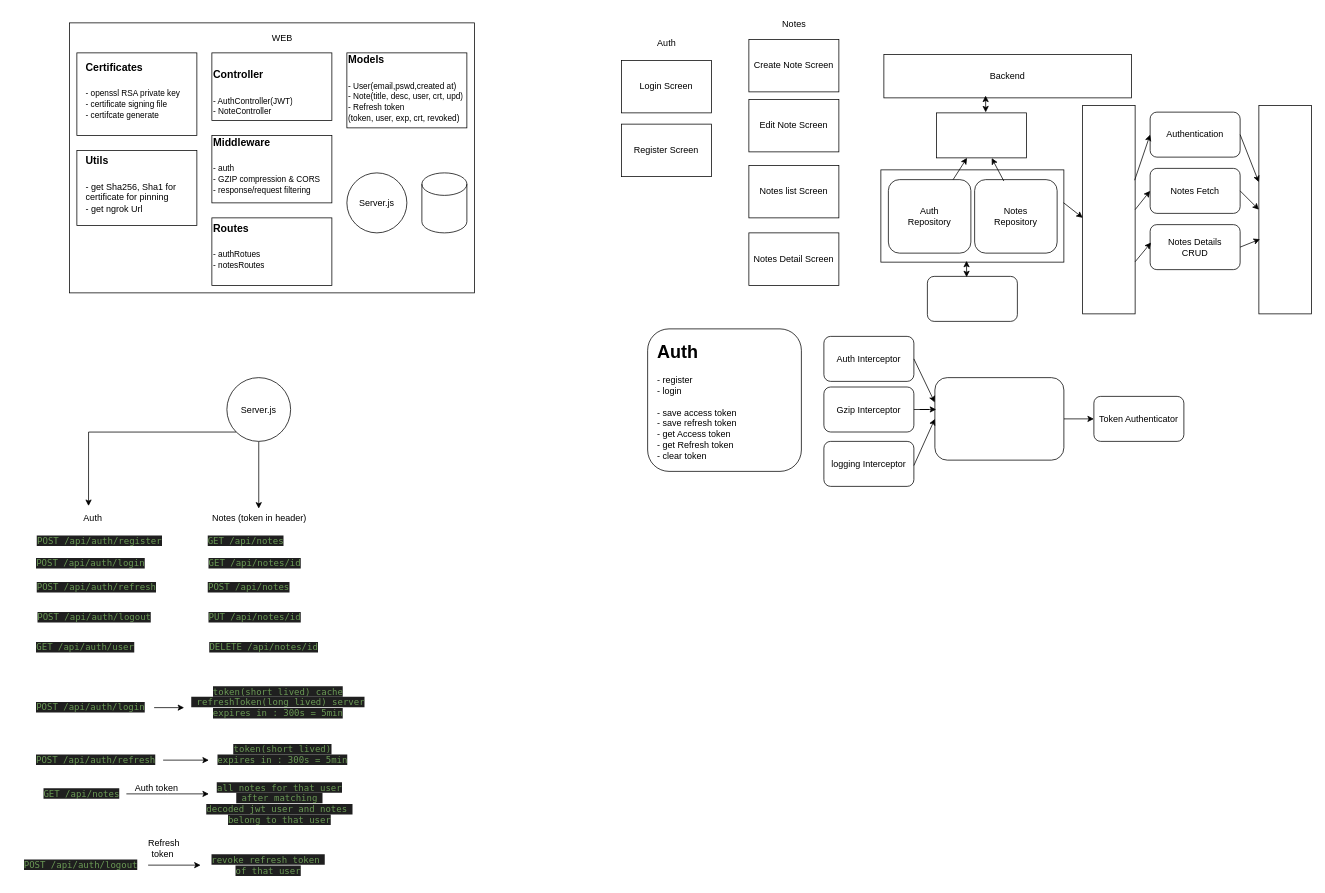
Image size: 1325x893. Some labels were removed from this diagram. The centre of each missing label's shape, as x and y in pixels:
Api Service: pixel 981 135
Certificate Pinner - okHttp Client (interceptors): pixel 999 418
Coordinator: pixel 1284 209
DI: pixel 1108 209
Mongo: pixel 444 202
Token Manager Encrypted SharedPref Cache: pixel 972 298
